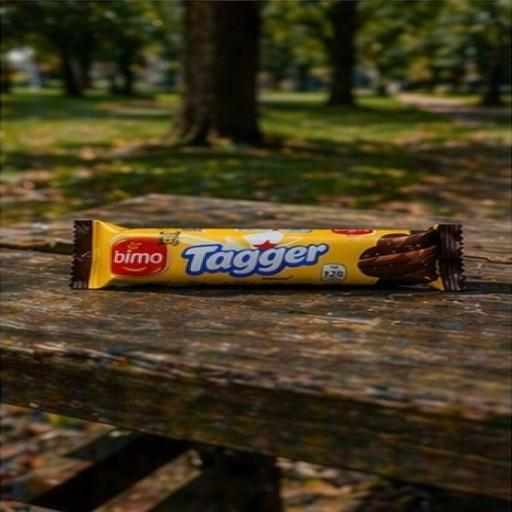tagger: (41, 173, 506, 352)
